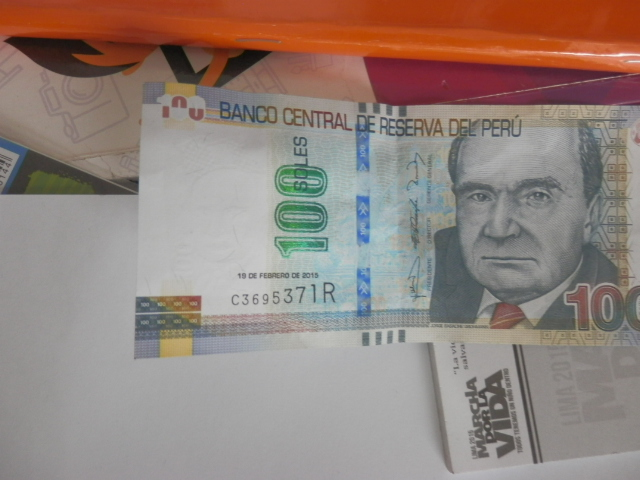B100: (131, 79, 639, 353)
